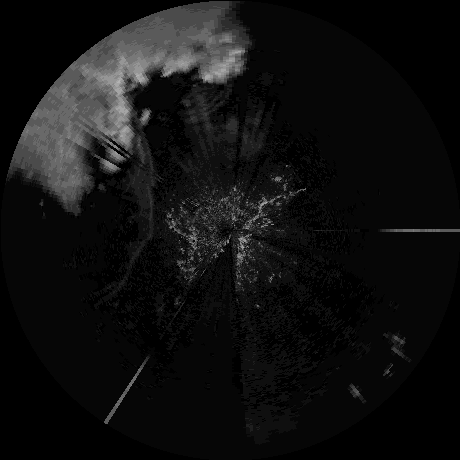frontgust: (140, 180, 155, 253), (136, 128, 152, 174)
